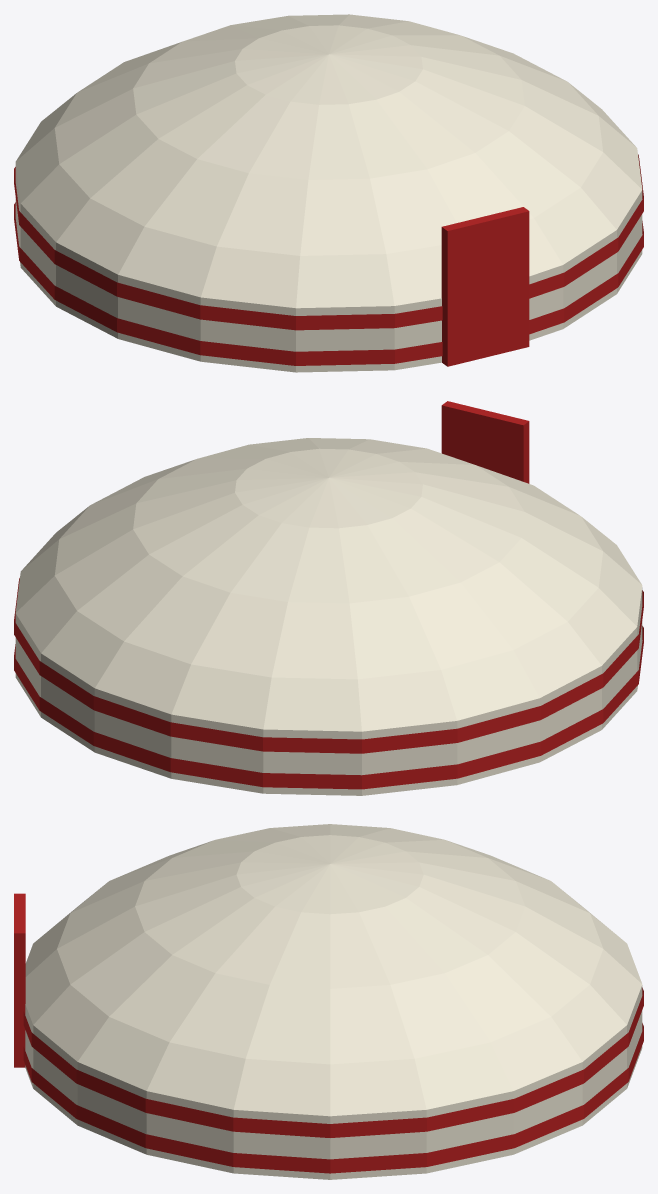
File: yurt.obj
The picture shows the model from 3 angles, top to bottom: view 1: azimuth 30°, elevation 25°; view 2: azimuth 150°, elevation 25°; view 3: azimuth 270°, elevation 25°; orthographic projection.
Visible parts, largest first — view 1: yurt; view 2: yurt; view 3: yurt.
Boxes of the visible parts, x1=… form: yurt: x1=14, y1=14, x2=643, y2=372; yurt: x1=14, y1=401, x2=643, y2=795; yurt: x1=14, y1=824, x2=643, y2=1179.
Size of the model in its own units: 8.04 by 2.6 by 8.07.
